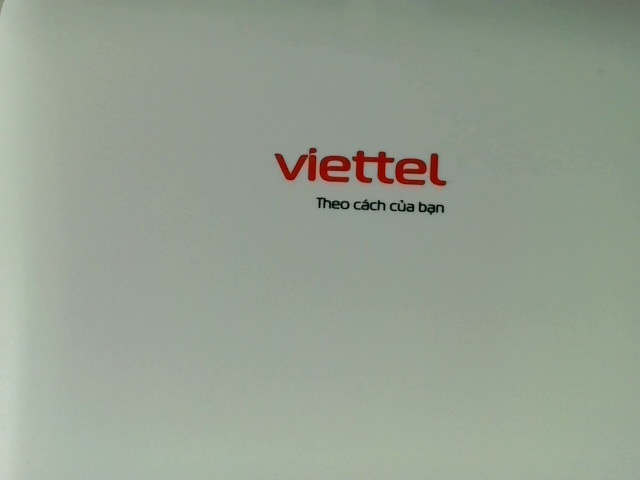AY_Viettel: (268, 143, 448, 224)
